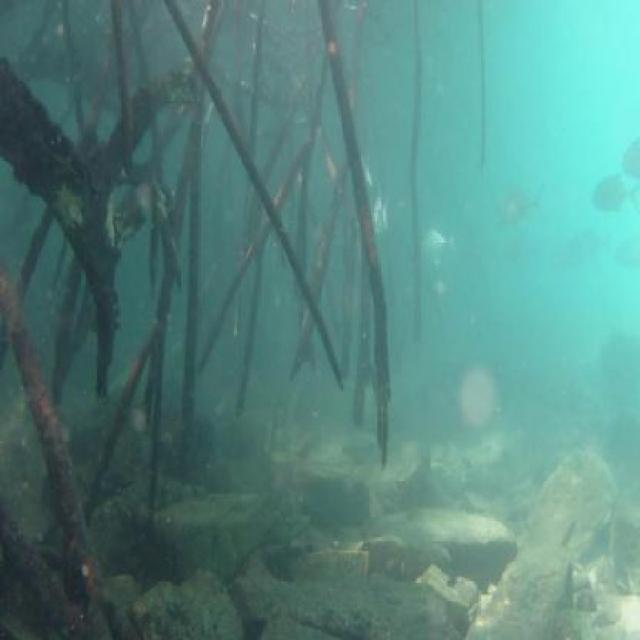Caranx_sexfasciatus_juvenile: (552, 229, 616, 280), (415, 222, 468, 276), (497, 178, 549, 233), (592, 162, 634, 218), (618, 138, 640, 182)
